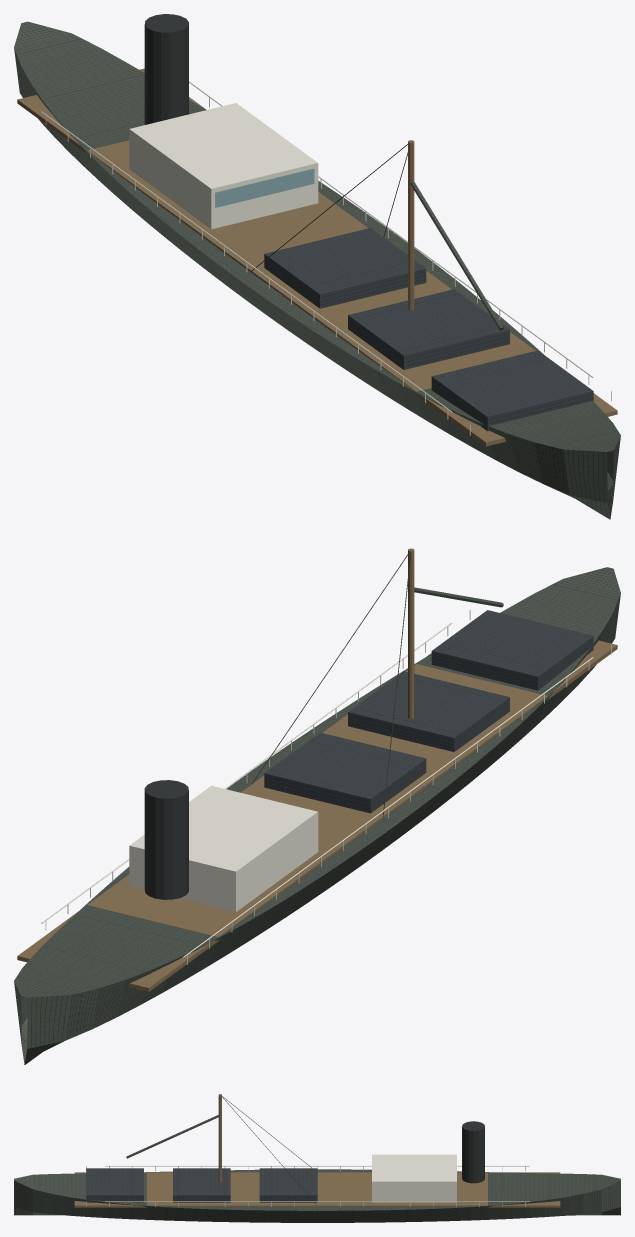
File: britainfreighter.gltf
3 renders of one model, top to bottom at view 1: azimuth 30°, elevation 25°; view 2: azimuth 150°, elevation 25°; view 3: azimuth 270°, elevation 25°, orthographic. The views are drawn at different scales.
Parts seen in each view (by area): view 1: britainfreighter; view 2: britainfreighter; view 3: britainfreighter.
Boxes of the visible parts, left/top/right/bottom form: britainfreighter: left=14, top=14, right=620, bottom=519; britainfreighter: left=14, top=548, right=620, bottom=1064; britainfreighter: left=14, top=1094, right=620, bottom=1222.
Bounding box in the file's own units: 34 × 46.05 × 210.
6 materials, 2 textured.
